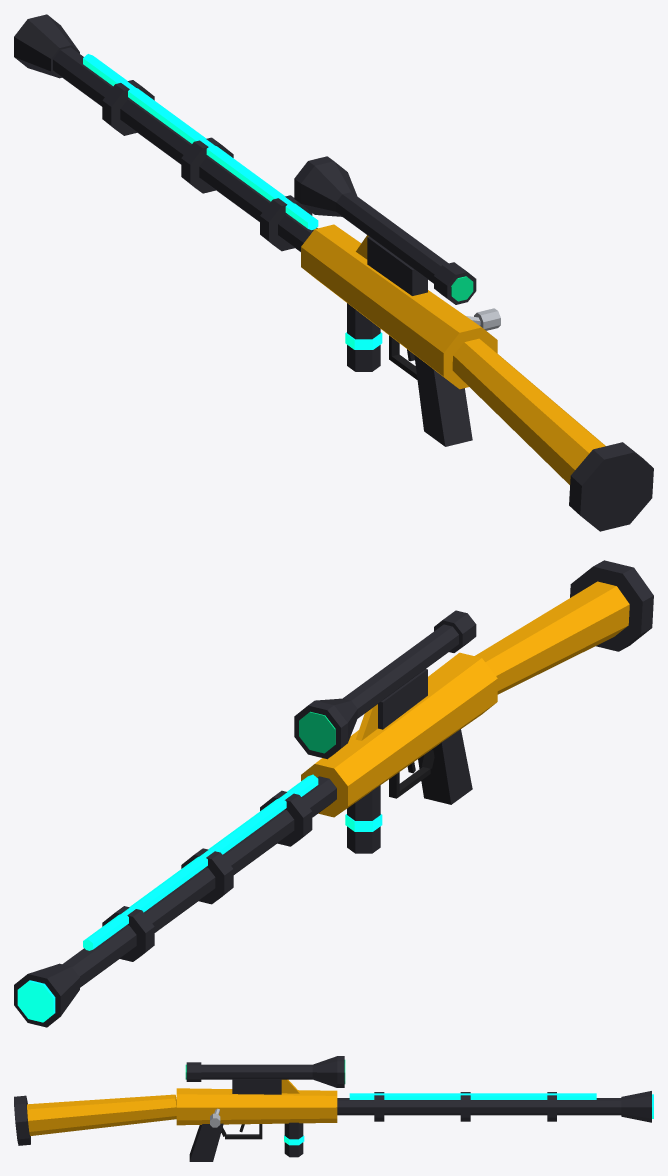
File: Hornet.glb
3 renders of one model, top to bottom at view 1: azimuth 30°, elevation 25°; view 2: azimuth 150°, elevation 25°; view 3: azimuth 270°, elevation 25°, orthographic. The views are drawn at different scales.
Visible parts, largest first — view 1: Body, Stock, Scope, Barrel, Pad, Accent, Handguard, Grip, Muzzle, Mount, Magazine; view 2: Body, Stock, Barrel, Scope, Accent, Handguard, Pad, Grip, Muzzle, Magazine, Mount, Lens (+1 smaller); view 3: Body, Stock, Barrel, Scope, Accent, Grip, Handguard, Muzzle, Mount, Pad, Magazine, Trigger.
Part boxes in pixels (bbox=[...]): Body: bbox=[301, 224, 497, 389]; Stock: bbox=[452, 338, 605, 484]; Scope: bbox=[294, 156, 476, 304]; Barrel: bbox=[53, 47, 317, 251]; Pad: bbox=[569, 442, 653, 531]; Accent: bbox=[83, 54, 382, 349]; Handguard: bbox=[102, 80, 312, 251]; Grip: bbox=[414, 355, 472, 446]; Muzzle: bbox=[14, 14, 79, 78]; Mount: bbox=[367, 236, 427, 295]; Magazine: bbox=[347, 303, 380, 371]; Body: bbox=[301, 652, 497, 817]; Stock: bbox=[474, 581, 629, 694]; Barrel: bbox=[62, 776, 336, 987]; Scope: bbox=[294, 610, 476, 759]; Accent: bbox=[17, 774, 382, 1022]; Handguard: bbox=[102, 790, 312, 961]; Pad: bbox=[570, 560, 653, 651]; Grip: bbox=[418, 729, 472, 804]; Muzzle: bbox=[14, 963, 79, 1027]; Magazine: bbox=[347, 785, 380, 853]; Mount: bbox=[378, 669, 427, 729]; Lens: bbox=[299, 711, 335, 753]; Body: bbox=[176, 1079, 337, 1125]; Stock: bbox=[27, 1094, 176, 1135]; Barrel: bbox=[337, 1098, 621, 1115]; Scope: bbox=[186, 1056, 344, 1087]; Accent: bbox=[284, 1093, 653, 1145]; Grip: bbox=[189, 1123, 223, 1161]; Handguard: bbox=[374, 1092, 556, 1121]; Muzzle: bbox=[621, 1091, 651, 1122]; Mount: bbox=[232, 1079, 281, 1094]; Pad: bbox=[14, 1095, 30, 1145]; Magazine: bbox=[284, 1122, 303, 1157]; Trigger: bbox=[221, 1124, 262, 1139].
Bounding box in the file's own units: 0.4948 × 0.8901 × 5.18.
